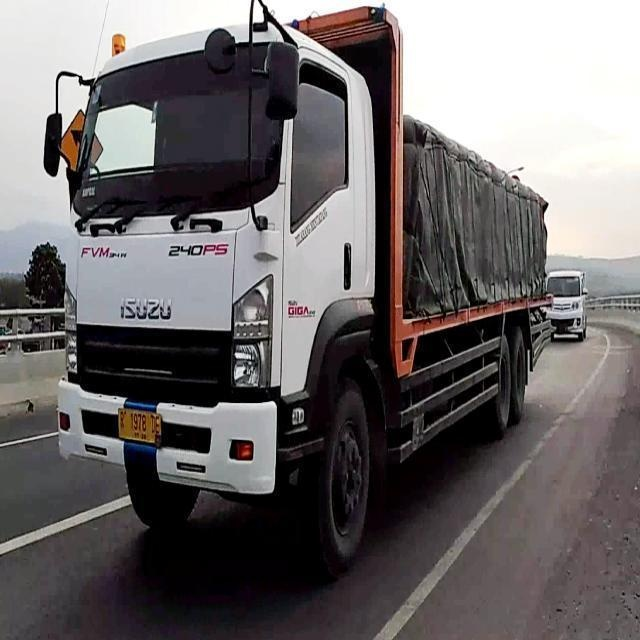Truck: (44, 4, 546, 562), (546, 267, 592, 359)
